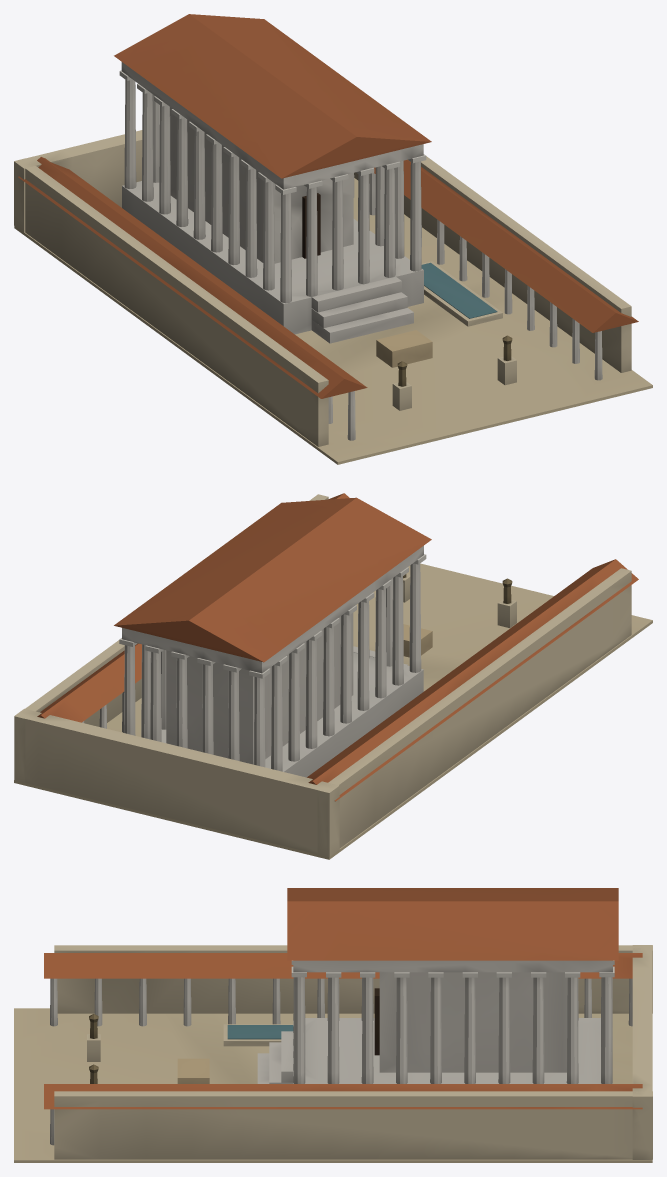
The model's file is roman-temple.glb.
3 renders of one model, top to bottom at view 1: azimuth 30°, elevation 25°; view 2: azimuth 150°, elevation 25°; view 3: azimuth 270°, elevation 25°, orthographic.
Visible parts, largest first — view 1: p0_precinct, p1_temple, p2_roof; view 2: p0_precinct, p1_temple, p2_roof; view 3: p0_precinct, p1_temple, p2_roof.
Boxes of the visible parts, x1=… form: p0_precinct: x1=14, y1=130, x2=652, y2=464; p1_temple: x1=119, y1=70, x2=426, y2=343; p2_roof: x1=114, y1=14, x2=516, y2=410; p0_precinct: x1=14, y1=493, x2=652, y2=859; p1_temple: x1=119, y1=554, x2=426, y2=777; p2_roof: x1=114, y1=497, x2=516, y2=673; p0_precinct: x1=14, y1=945, x2=652, y2=1162; p1_temple: x1=257, y1=960, x2=614, y2=1083; p2_roof: x1=87, y1=888, x2=618, y2=1083.
Size of the model in its own units: 36.3 by 20.53 by 64.03.
